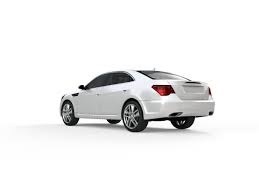bmw: (38, 62, 247, 134)
